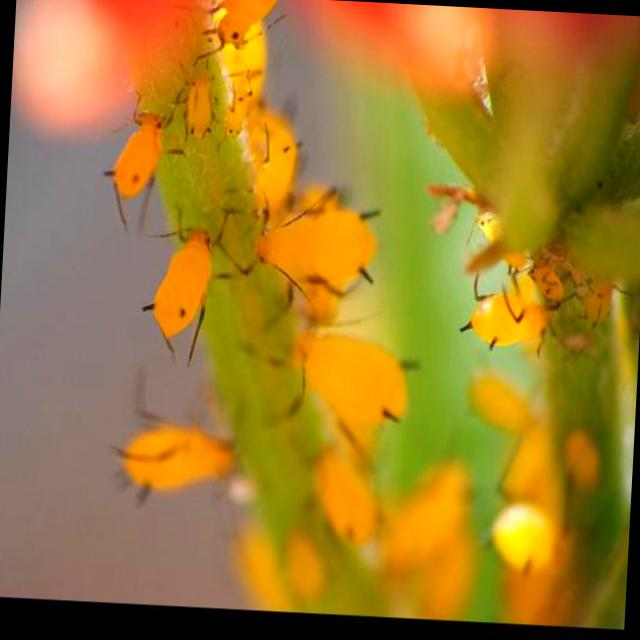Aphids: (126, 214, 255, 368), (447, 264, 573, 356), (92, 89, 179, 210)
